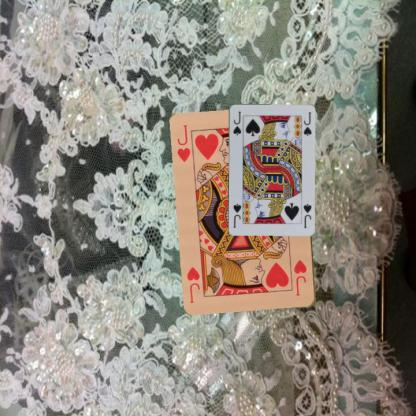Jh: (291, 257, 309, 298), (174, 122, 192, 163)
Js: (300, 200, 312, 229), (230, 109, 242, 136)
